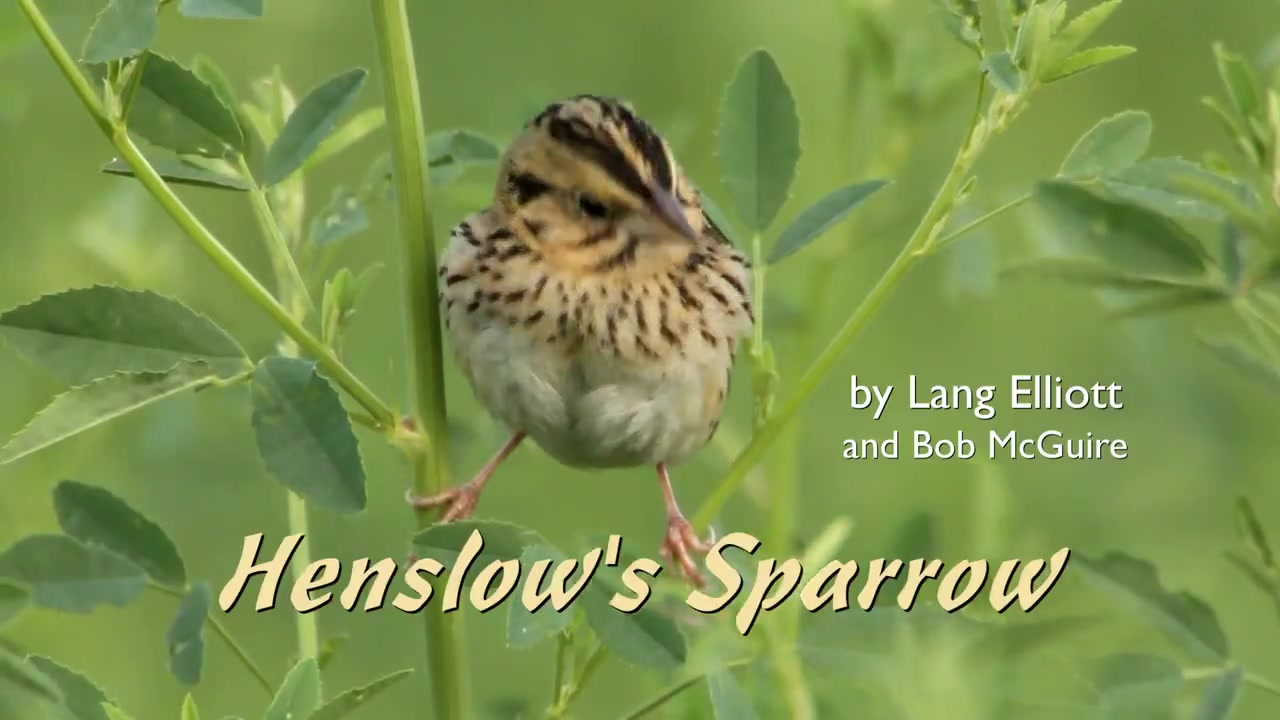bird: (405, 94, 758, 588)
